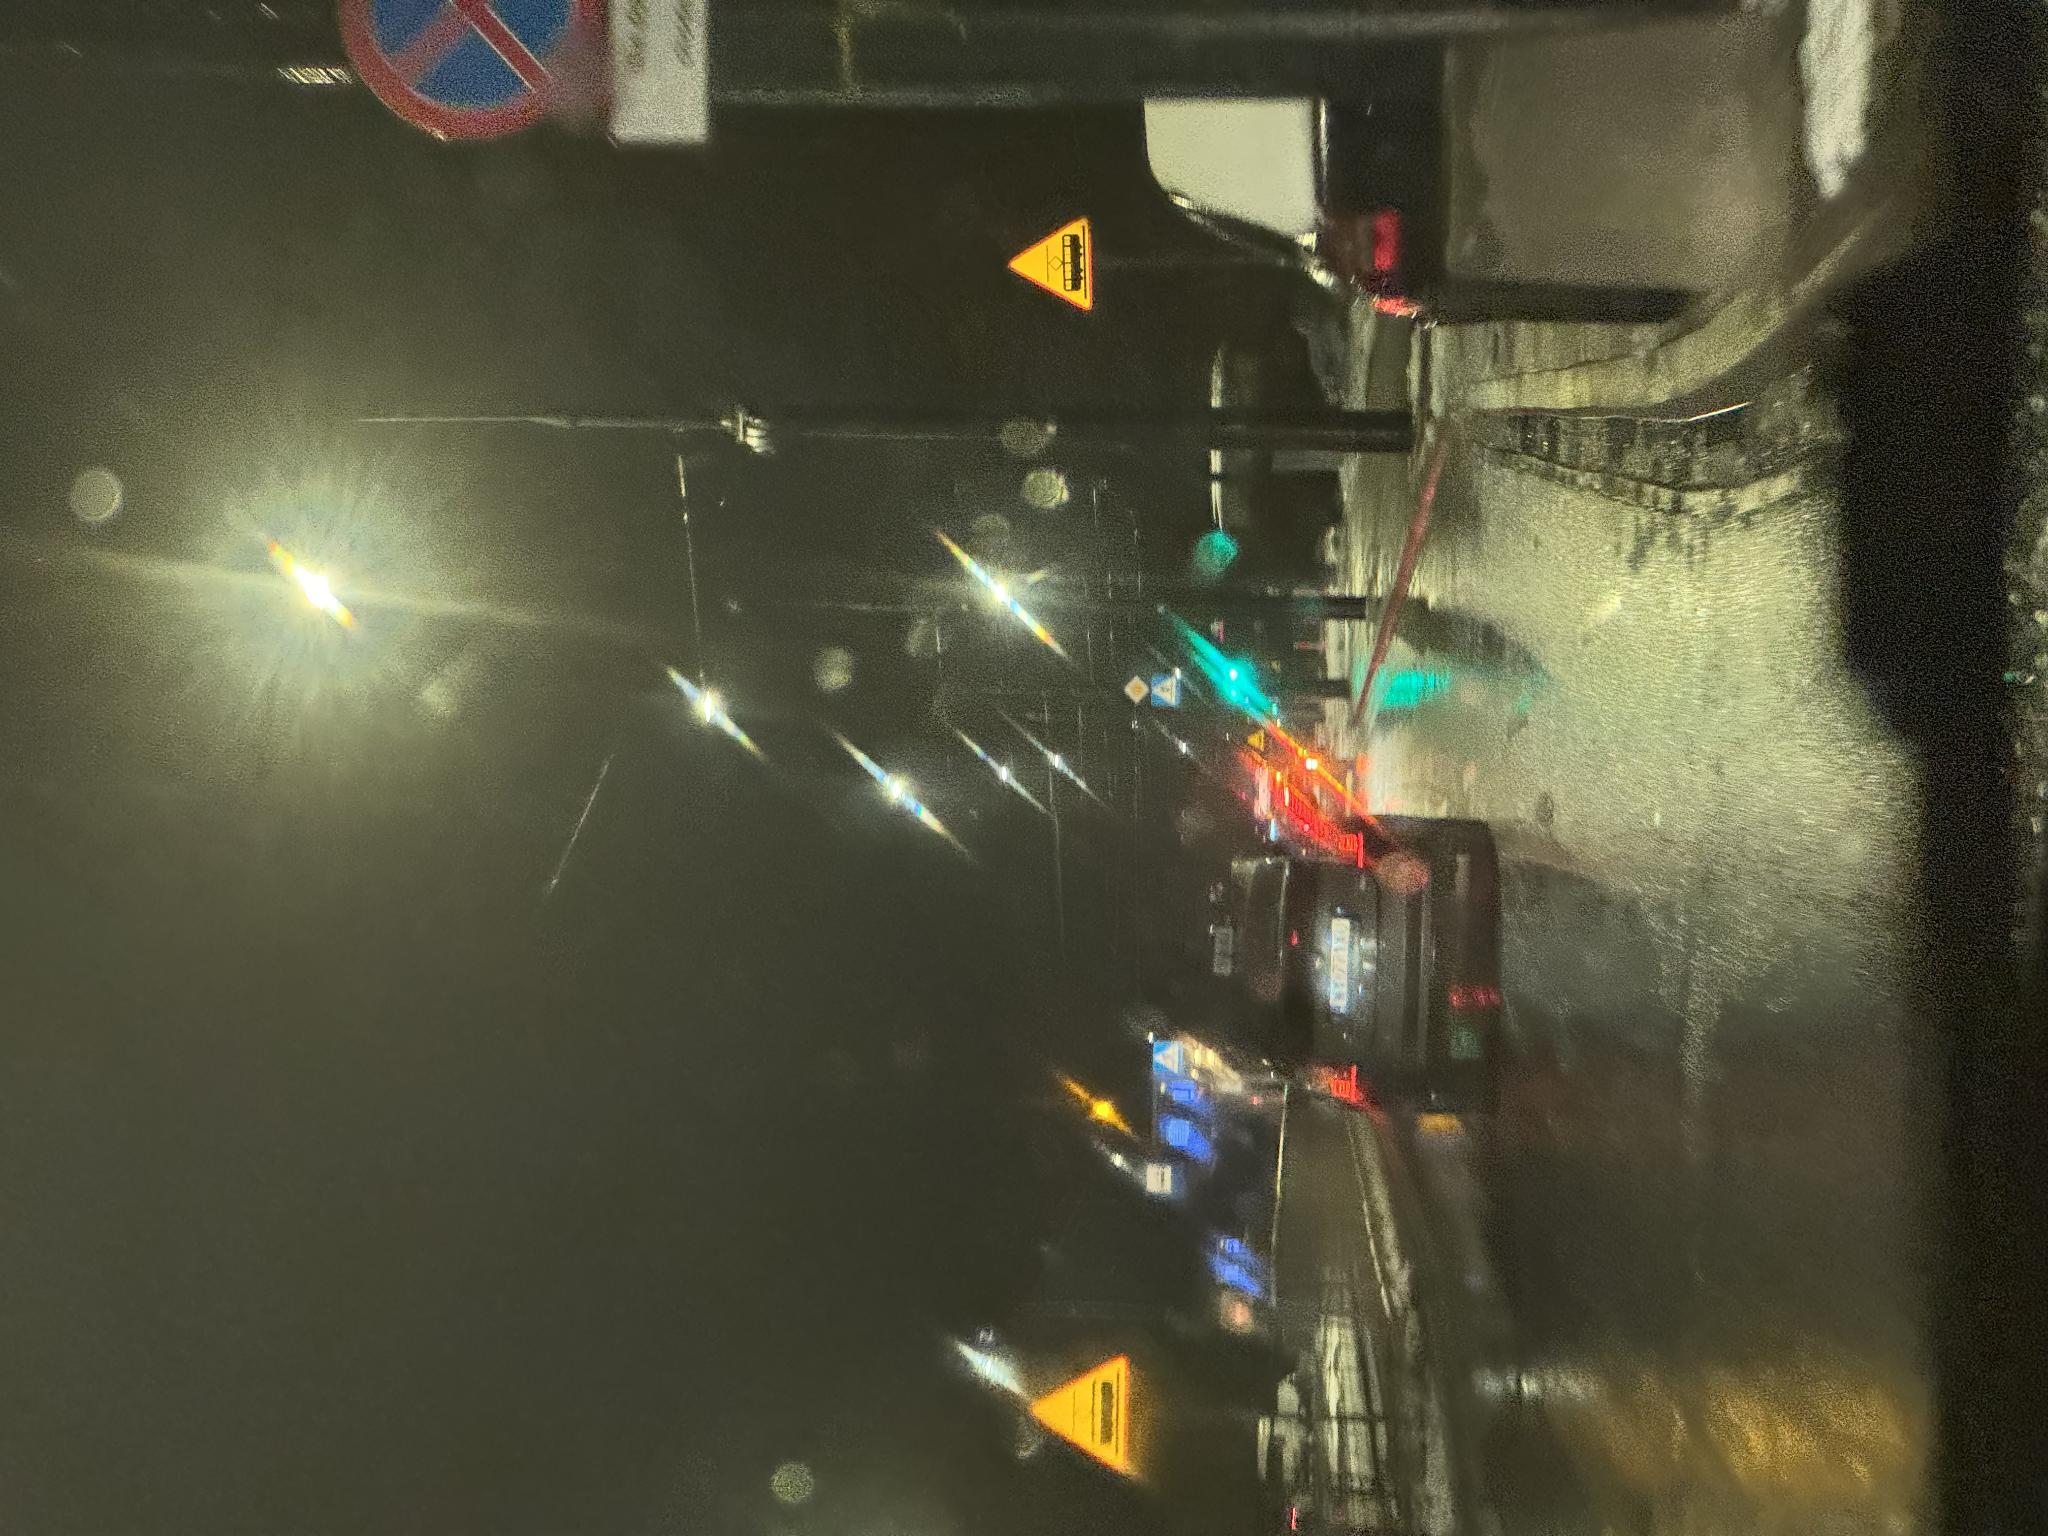prohibitory: (1387, 331, 1535, 595)
warning: (60, 1026, 181, 1134), (1222, 1002, 1322, 1096)
